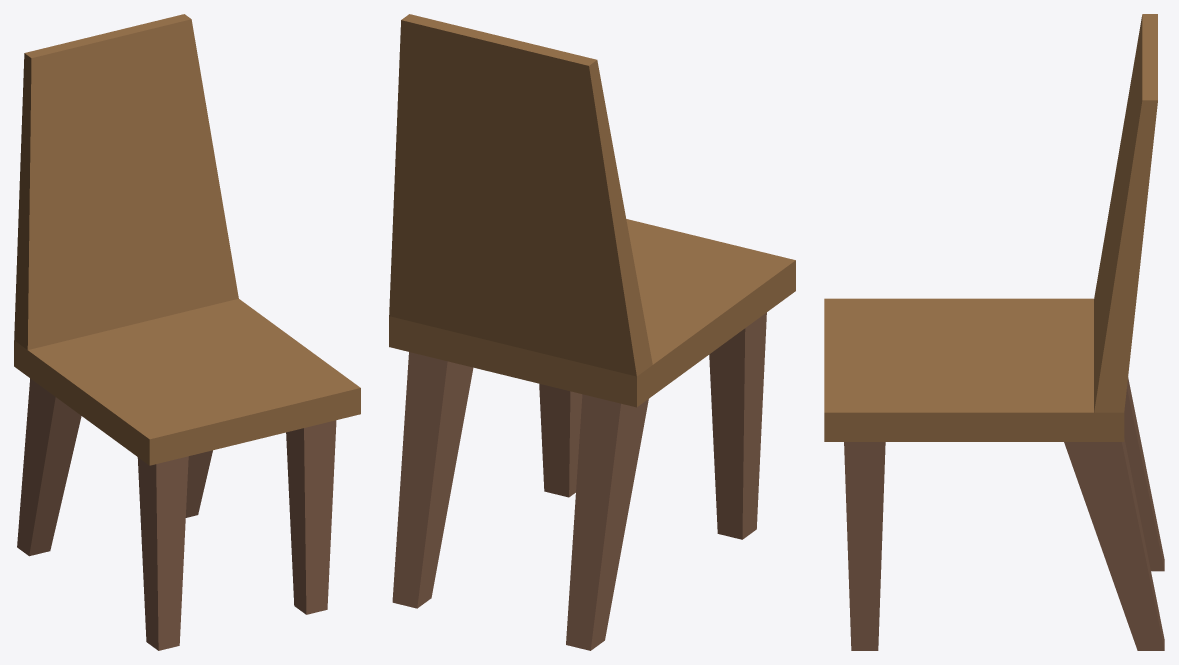
The model's file is Chair1.fbx.
The picture shows the model from 3 angles, left to right: view 1: azimuth 30°, elevation 25°; view 2: azimuth 150°, elevation 25°; view 3: azimuth 270°, elevation 25°; orthographic projection. The views are drawn at different scales.
Parts seen in each view (by area): view 1: Cube; view 2: Cube; view 3: Cube.
Part boxes in pixels (x1,y1,x2,y2): Cube: (14,14,360,650); Cube: (389,14,795,650); Cube: (824,14,1164,650).
Bounding box in the file's own units: 0.7 × 1.57 × 0.8829.
